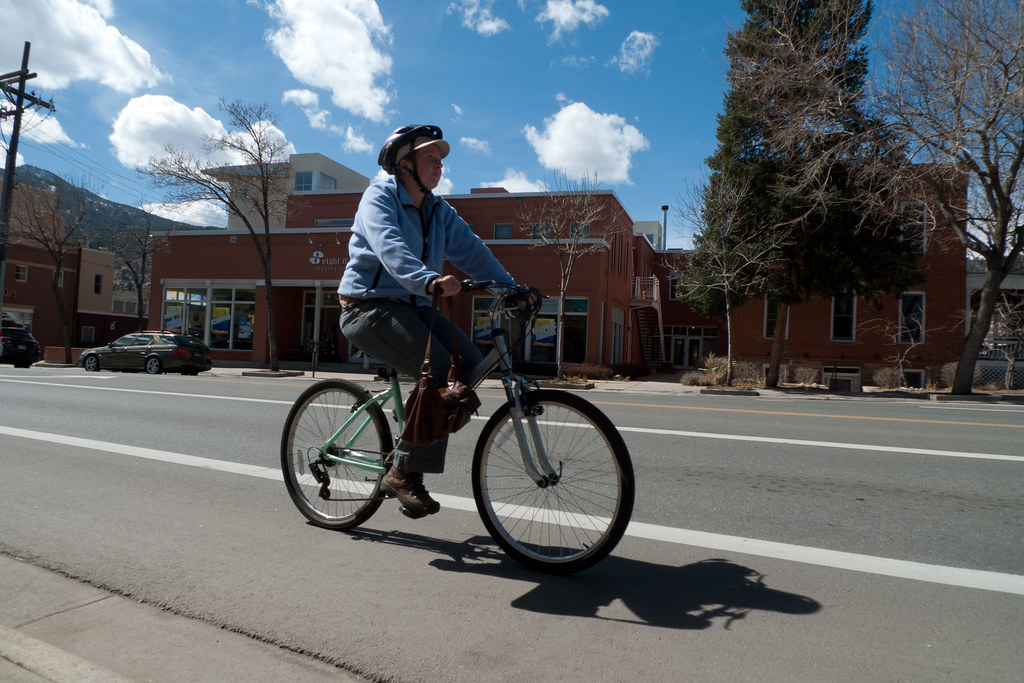helmet: (381, 117, 451, 166)
